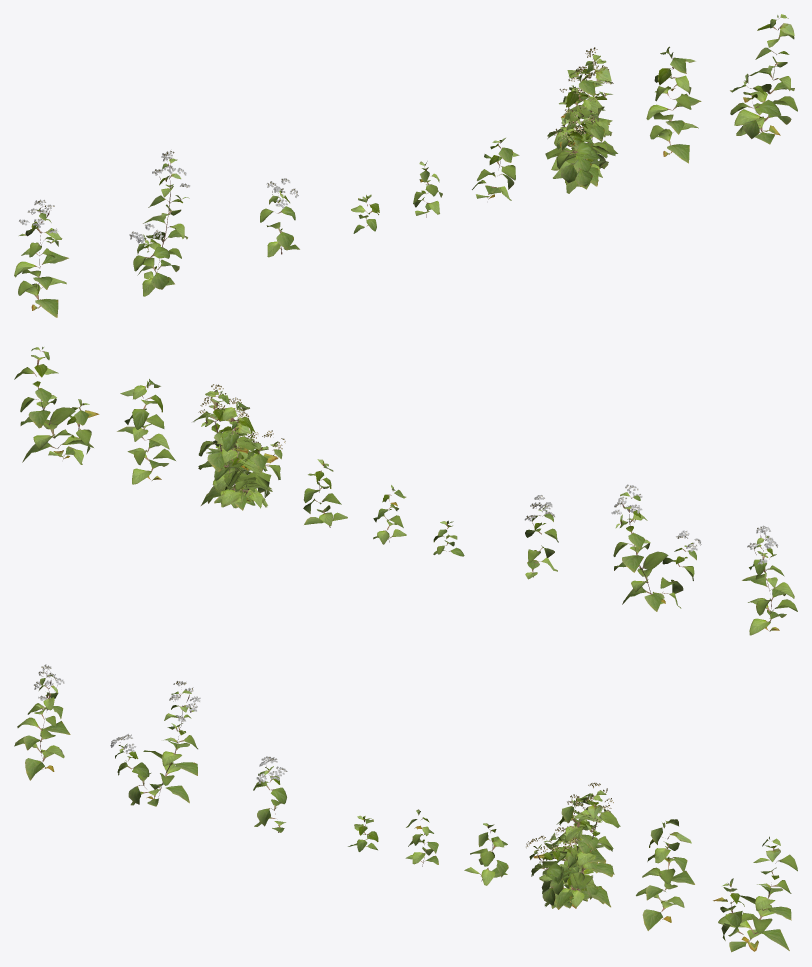
File: shrub_01_joined.glb
3 renders of one model, top to bottom at view 1: azimuth 30°, elevation 25°; view 2: azimuth 150°, elevation 25°; view 3: azimuth 330°, elevation 25°, orthographic. The views are drawn at different scales.
Parts seen in each view (by area): view 1: ConsolidatedMesh; view 2: ConsolidatedMesh; view 3: ConsolidatedMesh.
Boxes of the visible parts, x1,y1,x2,y2 form: ConsolidatedMesh: [14, 14, 797, 317]; ConsolidatedMesh: [14, 347, 797, 635]; ConsolidatedMesh: [14, 664, 797, 952].
Size of the model in its own units: 2.59 by 0.397 by 0.2238.
Materials: 1 (1 with a texture image).
